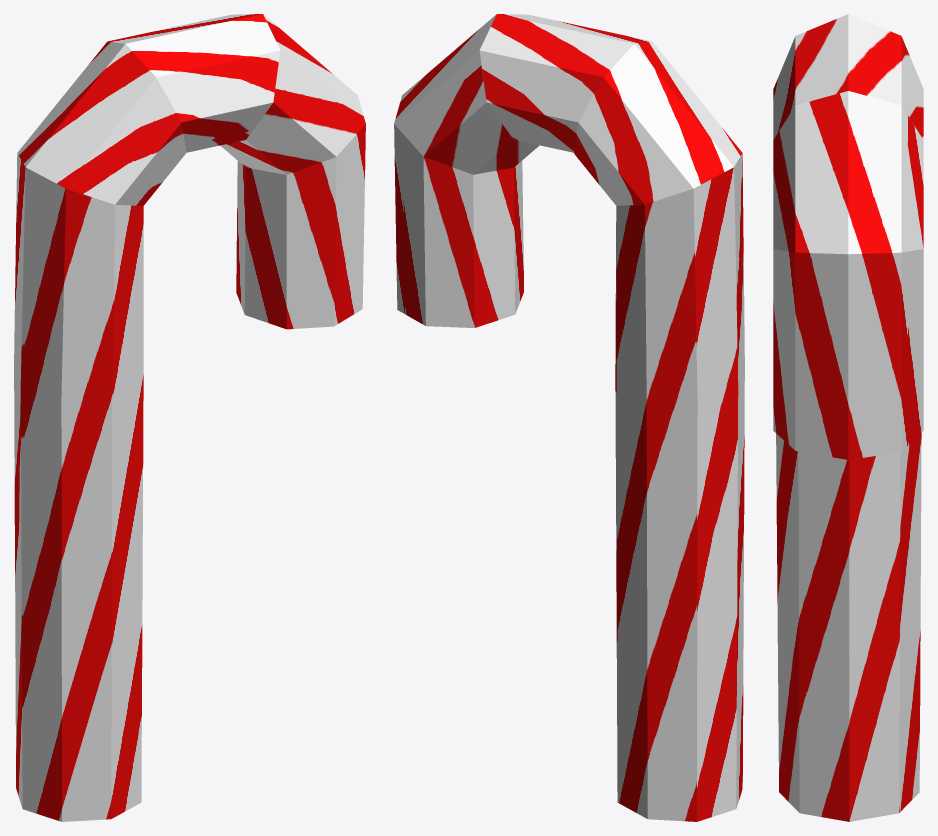
Rendered from candy_cane.fbx.
The picture shows the model from 3 angles, left to right: view 1: azimuth 30°, elevation 25°; view 2: azimuth 150°, elevation 25°; view 3: azimuth 270°, elevation 25°; orthographic projection. The views are drawn at different scales.
Parts seen in each view (by area): view 1: pCylinder2; view 2: pCylinder2; view 3: pCylinder2.
Boxes of the visible parts, left/top/right/bottom form: pCylinder2: left=14, top=14, right=365, bottom=821; pCylinder2: left=394, top=14, right=744, bottom=821; pCylinder2: left=773, top=14, right=923, bottom=821.
Size of the model in its own units: 342 by 720 by 122.
